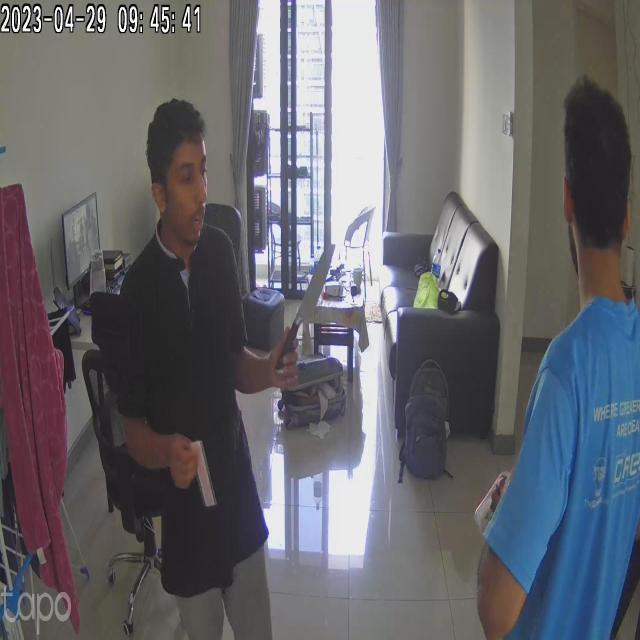Knife: (278, 240, 339, 366)
